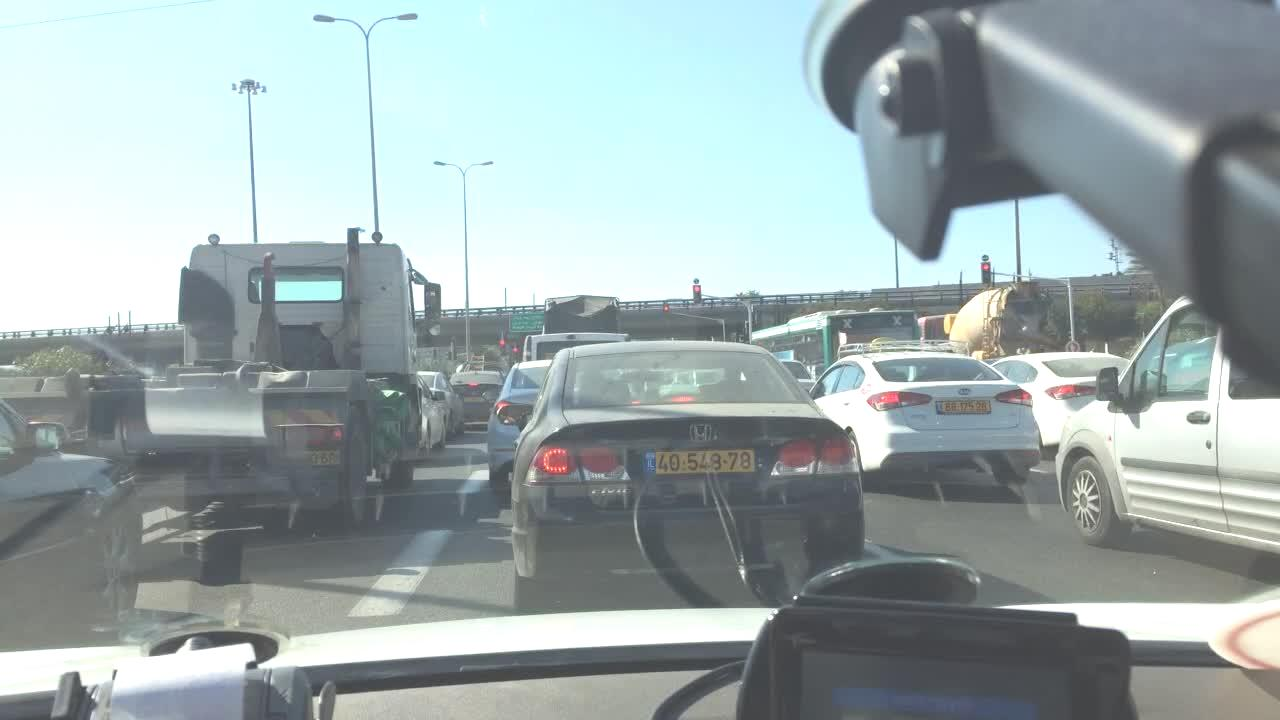Honda: (678, 418, 721, 450)
kia: (951, 383, 979, 400)
